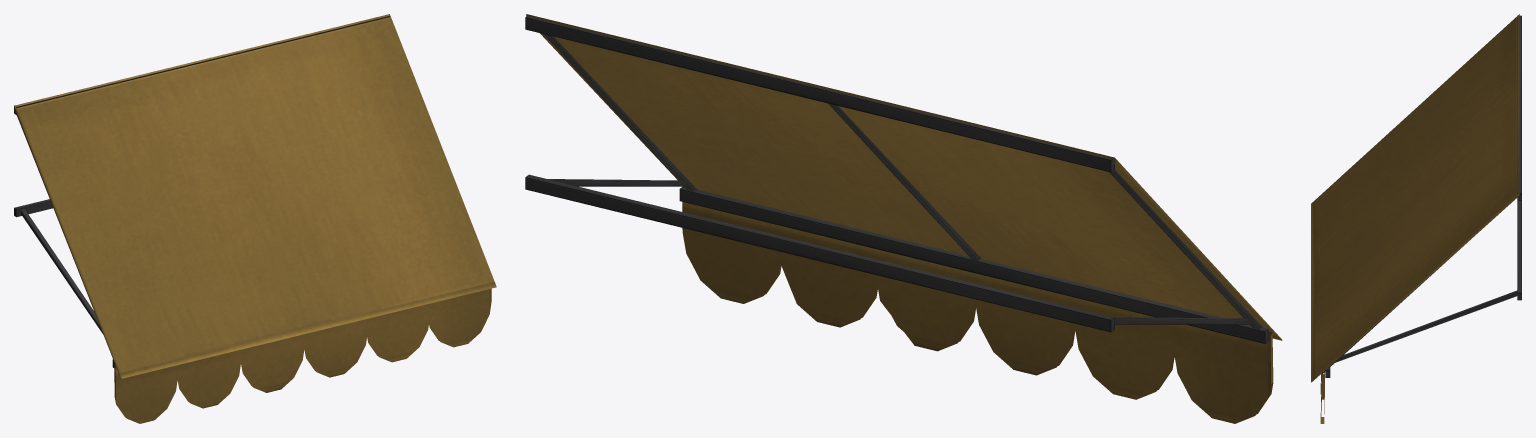
Rendered from ds_canopy_2_B.FBX.
The picture shows the model from 3 angles, left to right: view 1: azimuth 30°, elevation 25°; view 2: azimuth 150°, elevation 25°; view 3: azimuth 270°, elevation 25°; orthographic projection. The views are drawn at different scales.
Parts seen in each view (by area): view 1: ds_canopy_2_B; view 2: ds_canopy_2_B; view 3: ds_canopy_2_B.
Part boxes in pixels (x1,y1,x2,y2): ds_canopy_2_B: (14,14,496,423); ds_canopy_2_B: (525,14,1282,423); ds_canopy_2_B: (1311,14,1521,423).
Bounding box in the file's own units: 10.09 × 5.03 × 6.39.
